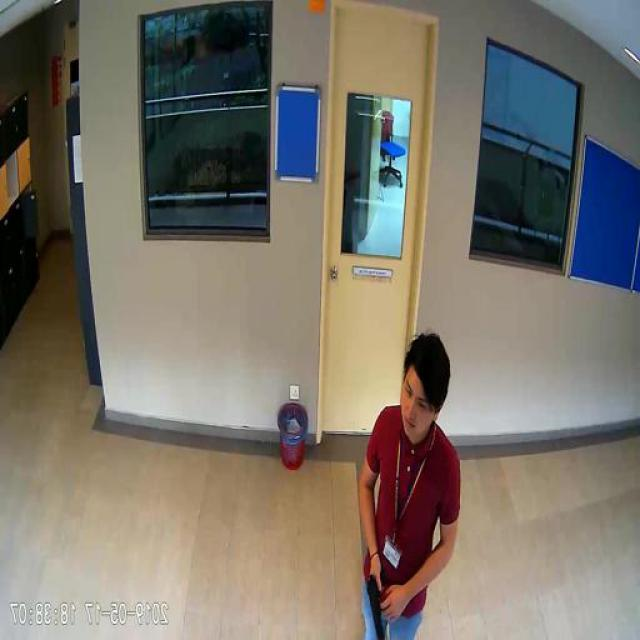Gun: (368, 564, 388, 638)
